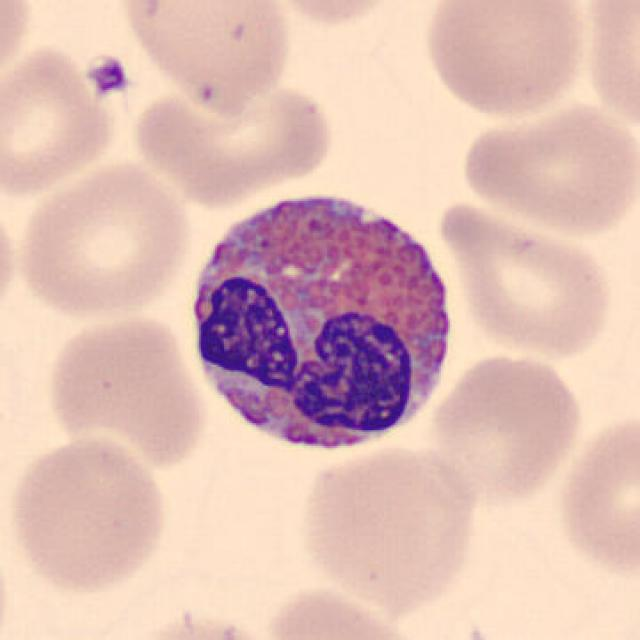Eosinophil: (178, 170, 469, 474)
Platelets: (82, 51, 132, 102)
RBC: (295, 441, 484, 614), (12, 157, 194, 323), (435, 201, 617, 363), (128, 74, 340, 208), (4, 432, 172, 596), (42, 308, 210, 471), (457, 97, 638, 238), (427, 349, 585, 504), (418, 0, 592, 122), (115, 0, 297, 115), (0, 41, 121, 199), (553, 406, 640, 584), (263, 583, 425, 640), (578, 0, 638, 141), (95, 606, 293, 640), (260, 0, 404, 30), (0, 0, 37, 100), (0, 190, 21, 331)
